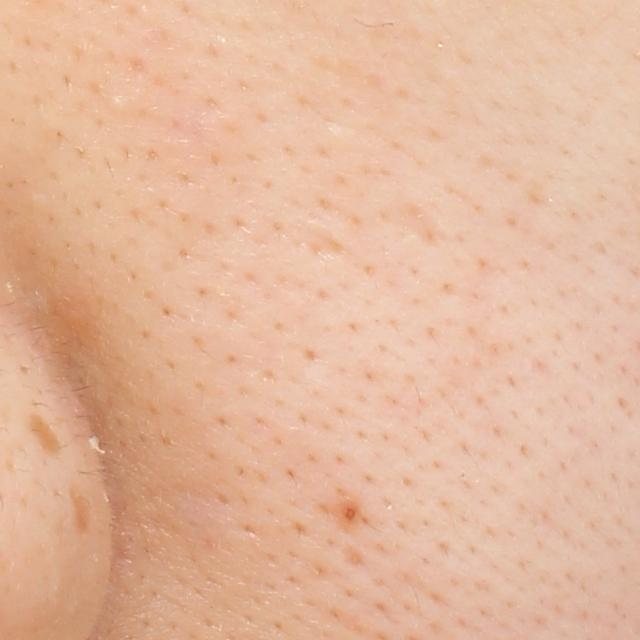atrophic_scar: (385, 201, 451, 254), (292, 225, 350, 265)
melasma: (13, 404, 71, 468), (66, 482, 100, 534)
